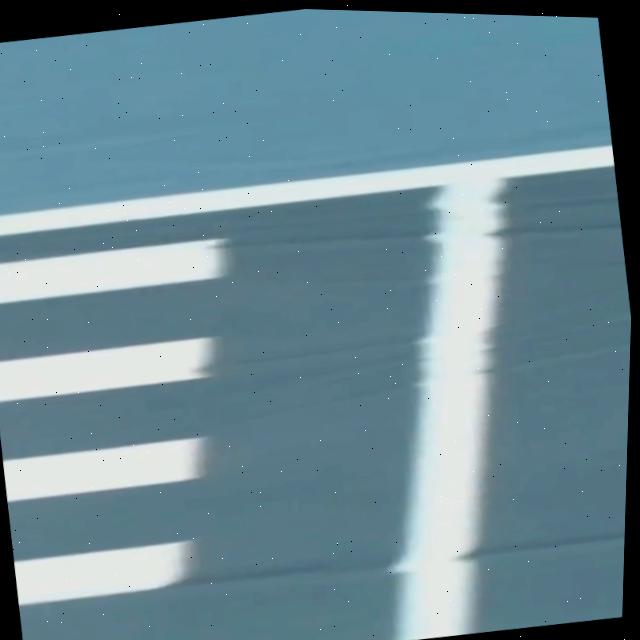left: (0, 144, 614, 234)
